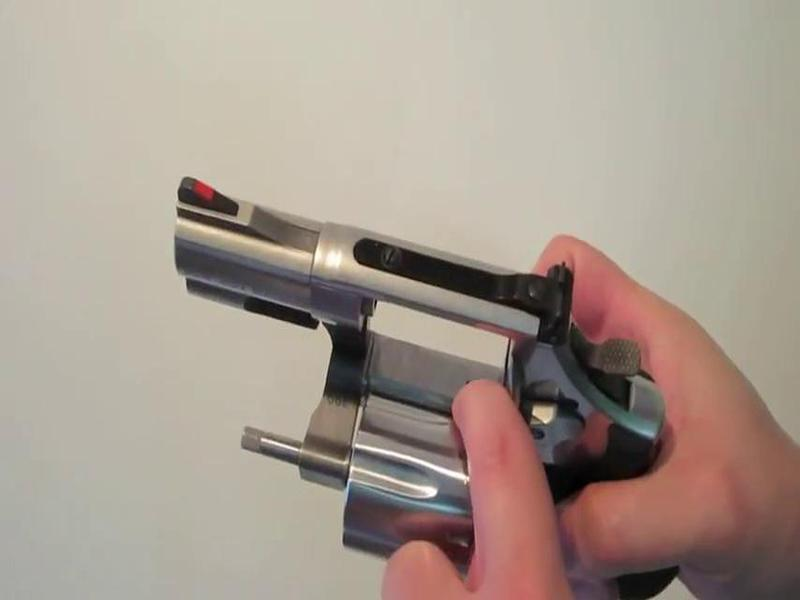Revolver: (158, 168, 706, 600)
